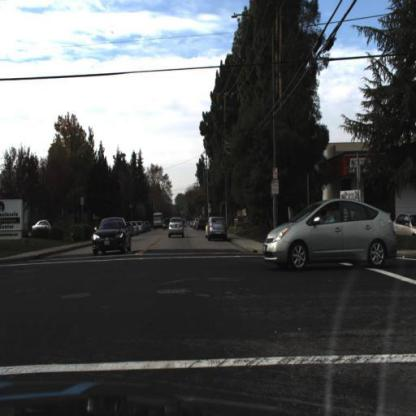car: (262, 194, 403, 280), (88, 208, 132, 262), (390, 204, 415, 244), (202, 213, 228, 243), (164, 213, 188, 242), (29, 212, 60, 233), (34, 215, 61, 234)
